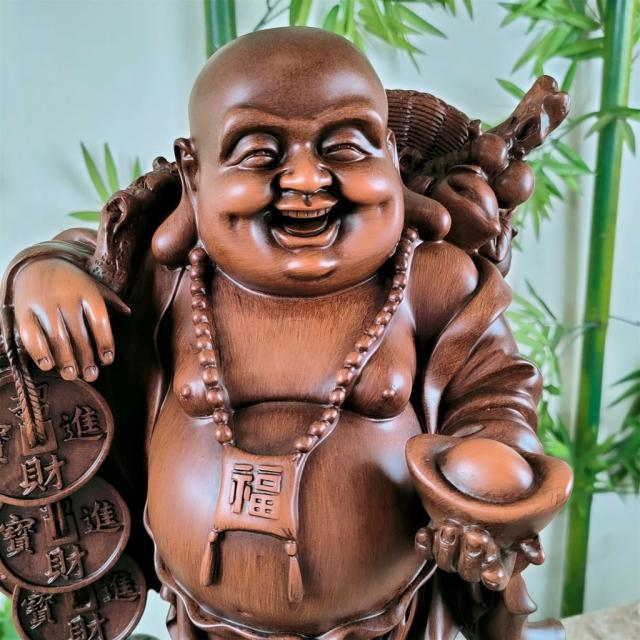Smiling Buddha: (134, 23, 459, 598)
